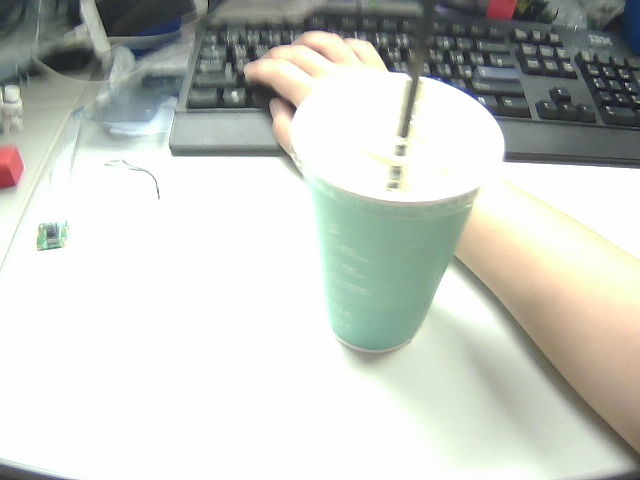beverage: (285, 5, 522, 384)
